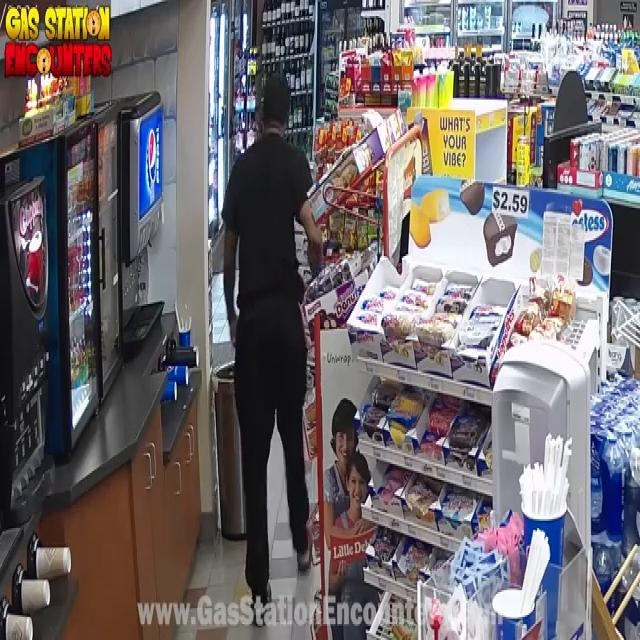person: (222, 75, 322, 619)
